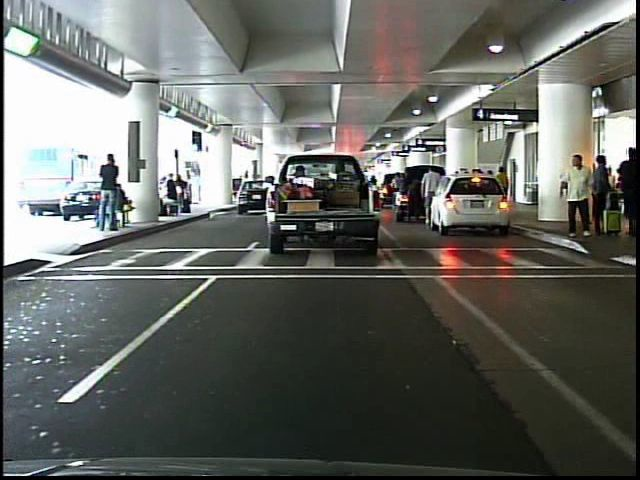person: (556, 144, 595, 241), (588, 152, 613, 241), (613, 147, 637, 235), (101, 149, 126, 233), (418, 161, 446, 231), (493, 162, 514, 218), (190, 167, 203, 210)
